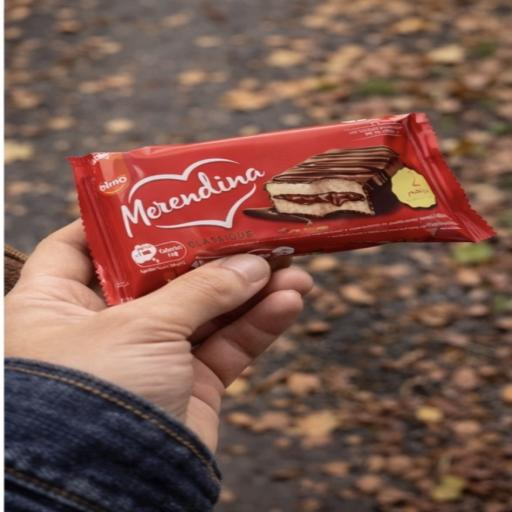merendina: (59, 112, 508, 321)
